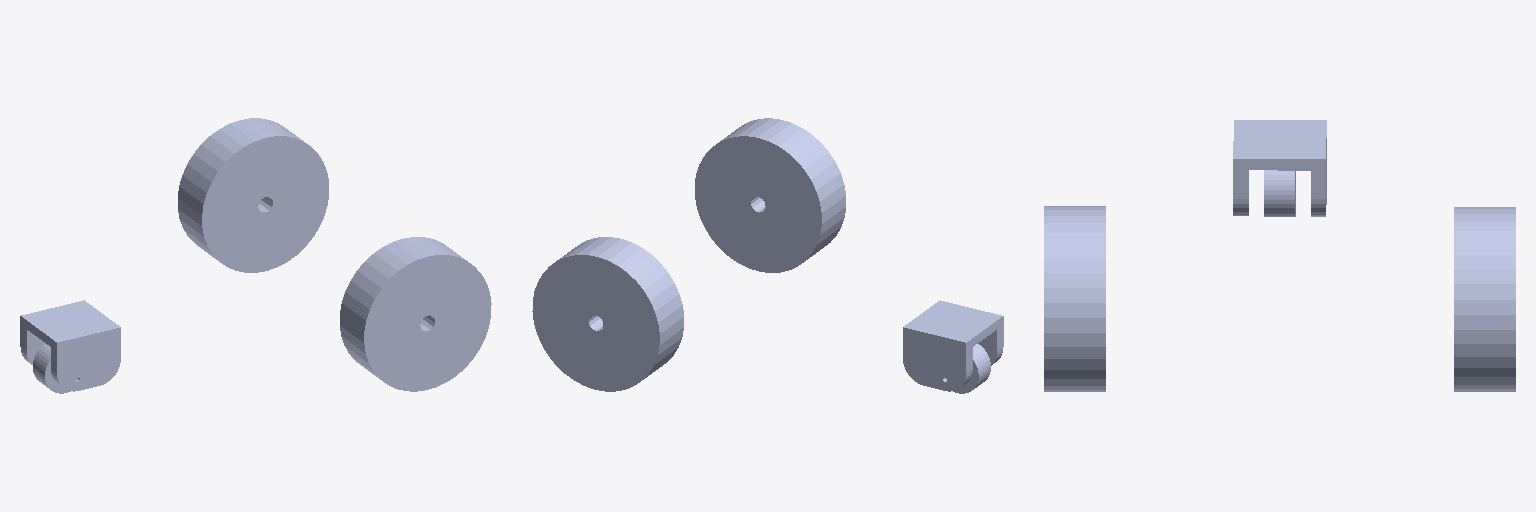
robot.urdf — duckiebot_new1228:
<robot
  name="duckiebot_new1228">
  <link
    name="base_link">
    <inertial>
      <origin
        xyz="-0.0101024393214371 2.77555756156289E-17 -0.00724903839291099"
        rpy="0 0 0" />
      <mass
        value="0.224144467859455" />
      <inertia
        ixx="0.000262333315558155"
        ixy="-9.46739929586217E-20"
        ixz="1.25847877839234E-05"
        iyy="0.000594458638144052"
        iyz="3.28272538130837E-20"
        izz="0.000839695132659337" />
    </inertial>
    <visual>
      <origin
        xyz="0 0 0"
        rpy="0 0 0" />
      <geometry>
        <mesh
          filename="package://duckiebot_new1228/meshes/base_link.STL" />
      </geometry>
      <material
        name="">
        <color
          rgba="0.792156862745098 0.819607843137255 0.933333333333333 1" />
      </material>
    </visual>
    <collision>
      <origin
        xyz="0 0 0"
        rpy="0 0 0" />
      <geometry>
        <mesh
          filename="package://duckiebot_new1228/meshes/base_link.STL" />
      </geometry>
    </collision>
  </link>
  <link
    name="lwheel_link">
    <inertial>
      <origin
        xyz="-8.32667268468867E-17 0.0100000000000001 -1.38777878078145E-17"
        rpy="0 0 0" />
      <mass
        value="0.0557789775644867" />
      <inertia
        ixx="1.45803923229503E-05"
        ixy="-1.99984150579823E-21"
        ixz="1.05546145898492E-21"
        iyy="2.54421861416015E-05"
        iyz="-3.05243290373849E-21"
        izz="1.45803923229503E-05" />
    </inertial>
    <visual>
      <origin
        xyz="0 0 0"
        rpy="0 0 0" />
      <geometry>
        <mesh
          filename="package://duckiebot_new1228/meshes/lwheel_link.STL" />
      </geometry>
      <material
        name="">
        <color
          rgba="0.792156862745098 0.819607843137255 0.933333333333333 1" />
      </material>
    </visual>
    <collision>
      <origin
        xyz="0 0 0"
        rpy="0 0 0" />
      <geometry>
        <mesh
          filename="package://duckiebot_new1228/meshes/lwheel_link.STL" />
      </geometry>
    </collision>
  </link>
  <joint
    name="lwheel_joint"
    type="continuous">
    <origin
      xyz="0.037 -0.0760000000000001 -0.02"
      rpy="0 0 0" />
    <parent
      link="base_link" />
    <child
      link="lwheel_link" />
    <axis
      xyz="0 -1 0" />
  </joint>
  <link
    name="rwheel_link">
    <inertial>
      <origin
        xyz="-2.77555756156289E-17 -0.01 -2.77555756156289E-17"
        rpy="0 0 0" />
      <mass
        value="0.0557789775644868" />
      <inertia
        ixx="1.45803923229503E-05"
        ixy="4.60062935577484E-21"
        ixz="-6.46471806336693E-23"
        iyy="2.54421861416015E-05"
        iyz="-3.87738072626345E-21"
        izz="1.45803923229503E-05" />
    </inertial>
    <visual>
      <origin
        xyz="0 0 0"
        rpy="0 0 0" />
      <geometry>
        <mesh
          filename="package://duckiebot_new1228/meshes/rwheel_link.STL" />
      </geometry>
      <material
        name="">
        <color
          rgba="0.792156862745098 0.819607843137255 0.933333333333333 1" />
      </material>
    </visual>
    <collision>
      <origin
        xyz="0 0 0"
        rpy="0 0 0" />
      <geometry>
        <mesh
          filename="package://duckiebot_new1228/meshes/rwheel_link.STL" />
      </geometry>
    </collision>
  </link>
  <joint
    name="rwheel_joint"
    type="continuous">
    <origin
      xyz="0.037 0.076 -0.02"
      rpy="0 0 0" />
    <parent
      link="base_link" />
    <child
      link="rwheel_link" />
    <axis
      xyz="0 -1 0" />
  </joint>
  <link
    name="wheelconnect_link">
    <inertial>
      <origin
        xyz="1.71871205486727E-05 2.77555756156289E-17 -0.00889129340051437"
        rpy="0 0 0" />
      <mass
        value="0.00913938040025901" />
      <inertia
        ixx="1.60355093188034E-06"
        ixy="-7.73413872737081E-23"
        ixz="1.58787191951214E-09"
        iyy="1.10422623295413E-06"
        iyz="1.24825890806269E-22"
        izz="1.79481242782248E-06" />
    </inertial>
    <visual>
      <origin
        xyz="0 0 0"
        rpy="0 0 0" />
      <geometry>
        <mesh
          filename="package://duckiebot_new1228/meshes/wheelconnect_link.STL" />
      </geometry>
      <material
        name="">
        <color
          rgba="0.792156862745098 0.819607843137255 0.933333333333333 1" />
      </material>
    </visual>
    <collision>
      <origin
        xyz="0 0 0"
        rpy="0 0 0" />
      <geometry>
        <mesh
          filename="package://duckiebot_new1228/meshes/wheelconnect_link.STL" />
      </geometry>
    </collision>
  </link>
  <joint
    name="connect_joint"
    type="continuous">
    <origin
      xyz="-0.087 0 -0.021"
      rpy="-5.39137043987863E-16 -2.12238359091467E-18 -0.00393661064679745" />
    <parent
      link="base_link" />
    <child
      link="wheelconnect_link" />
    <axis
      xyz="0 0 1" />
  </joint>
  <link
    name="swheel_link">
    <inertial>
      <origin
        xyz="3.0140820395097E-17 -0.00500000000000003 6.93889390390723E-18"
        rpy="0 0 0" />
      <mass
        value="0.0031101767270539" />
      <inertia
        ixx="1.04450101750227E-07"
        ixy="-2.25665210862123E-23"
        ixz="-1.86856433439062E-23"
        iyy="1.57063924716222E-07"
        iyz="5.78702483149728E-23"
        izz="1.04450101750227E-07" />
    </inertial>
    <visual>
      <origin
        xyz="0 0 0"
        rpy="0 0 0" />
      <geometry>
        <mesh
          filename="package://duckiebot_new1228/meshes/swheel_link.STL" />
      </geometry>
      <material
        name="">
        <color
          rgba="0.792156862745098 0.819607843137255 0.933333333333333 1" />
      </material>
    </visual>
    <collision>
      <origin
        xyz="0 0 0"
        rpy="0 0 0" />
      <geometry>
        <mesh
          filename="package://duckiebot_new1228/meshes/swheel_link.STL" />
      </geometry>
    </collision>
  </link>
  <joint
    name="swheel_joint"
    type="continuous">
    <origin
      xyz="-0.00500000000000001 0.005 -0.019"
      rpy="-9.86076131526265E-32 0 5.8113236445223E-17" />
    <parent
      link="wheelconnect_link" />
    <child
      link="swheel_link" />
    <axis
      xyz="0 -1 0" />
  </joint>
</robot>

--- What the picture shows (computed from the rendered views, not written in the file) ---
Views: 3 orthographic renders of the robot side by side, from view 1: azimuth 30°, elevation 25°; view 2: azimuth 150°, elevation 25°; view 3: azimuth 270°, elevation 25°.
Model duckiebot_new1228 with 5 links and 4 joints (4 continuous), rooted at base_link, posed every joint at zero.
Visible links, largest first — view 1: rwheel_link, lwheel_link, wheelconnect_link, swheel_link; view 2: rwheel_link, lwheel_link, wheelconnect_link, swheel_link; view 3: lwheel_link, rwheel_link, wheelconnect_link, swheel_link.
Boxes of the visible links, bbox=[...] form: rwheel_link: bbox=[178, 118, 328, 272]; lwheel_link: bbox=[340, 237, 491, 391]; wheelconnect_link: bbox=[20, 300, 120, 391]; swheel_link: bbox=[33, 344, 70, 393]; rwheel_link: bbox=[532, 237, 683, 391]; lwheel_link: bbox=[695, 118, 845, 272]; wheelconnect_link: bbox=[903, 300, 1003, 391]; swheel_link: bbox=[953, 344, 990, 393]; lwheel_link: bbox=[1044, 206, 1105, 391]; rwheel_link: bbox=[1454, 207, 1515, 391]; wheelconnect_link: bbox=[1233, 120, 1326, 216]; swheel_link: bbox=[1264, 170, 1295, 216].
Bounding box of the posed robot: 0.169 × 0.152 × 0.06 m (x, y, z).
Meshes: 5 distinct files referenced, 4 mesh visuals loaded (4 binary STL); not drawn: 1 (reference not matched to a file when rendering).